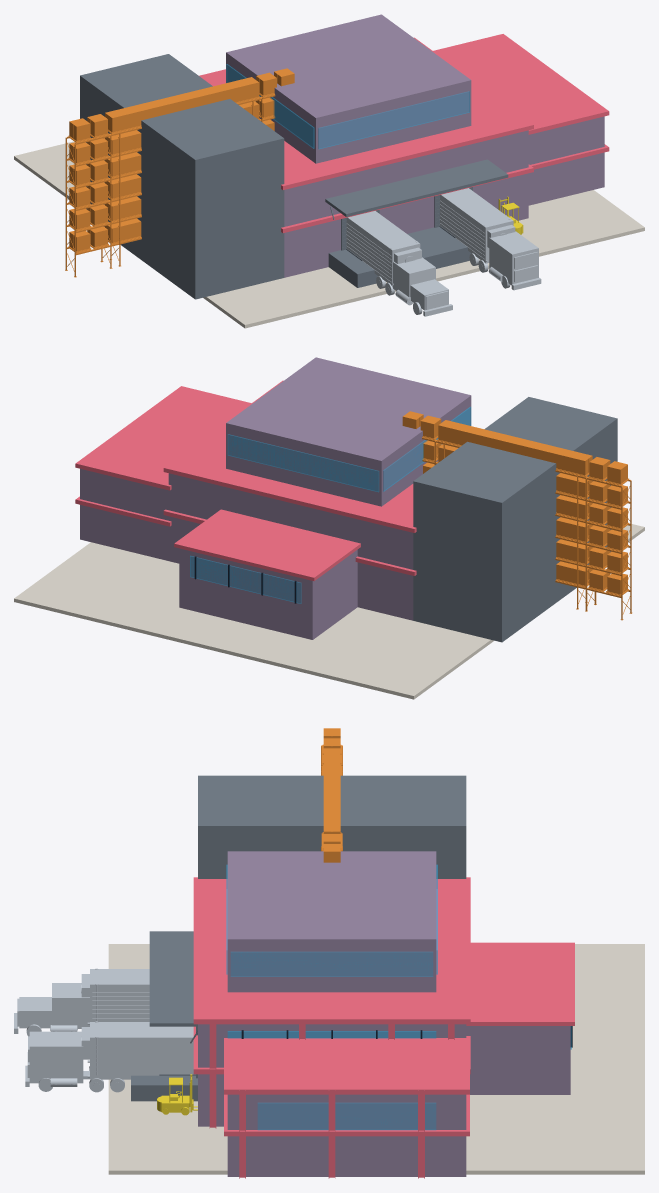
The model's file is hq_11_procurement_l4.glb.
3 views of the same model, one above another, from view 1: azimuth 30°, elevation 25°; view 2: azimuth 150°, elevation 25°; view 3: azimuth 270°, elevation 25° (orthographic). The views are drawn at different scales.
Parts seen in each view (by area): view 1: GEO_Procurement_HighBay_Shell, GEO_Procurement_Collaboration_Floor, GEO_Procurement_Automated_Pallet_Racks, GEO_Procurement_Foundation_Plinth, GEO_Procurement_Delivery_SemiTruck, GEO_Procurement_Brick_Warehouse, GEO_Procurement_Inspection_Beams, GEO_Procurement_Structural_Columns, GEO_Procurement_Freight_Docks, GEO_Procurement_Inspection_Wing_Brick, GEO_Procurement_Collab_Windows; view 2: GEO_Procurement_HighBay_Shell, GEO_Procurement_Foundation_Plinth, GEO_Procurement_Collaboration_Floor, GEO_Procurement_Brick_Warehouse, GEO_Procurement_Structural_Columns, GEO_Procurement_Automated_Pallet_Racks, GEO_Procurement_Inspection_Beams, GEO_Procurement_Inspection_Wing_Brick, GEO_Procurement_Collab_Windows, GEO_Procurement_Ribbon_Glass; view 3: GEO_Procurement_Foundation_Plinth, GEO_Procurement_Collaboration_Floor, GEO_Procurement_Structural_Columns, GEO_Procurement_HighBay_Shell, GEO_Procurement_Inspection_Beams, GEO_Procurement_Inspection_Wing_Brick, GEO_Procurement_Delivery_SemiTruck, GEO_Procurement_Brick_Warehouse, GEO_Procurement_Freight_Docks, GEO_Procurement_Collab_Windows, GEO_Procurement_Inspection_Ribbon_Glass, GEO_Procurement_Automated_Pallet_Racks (+2 smaller).
Boxes of the visible parts, bbox=[...] form: GEO_Procurement_HighBay_Shell: bbox=[80, 54, 284, 299]; GEO_Procurement_Collaboration_Floor: bbox=[226, 14, 471, 163]; GEO_Procurement_Automated_Pallet_Racks: bbox=[65, 68, 294, 277]; GEO_Procurement_Foundation_Plinth: bbox=[14, 141, 644, 328]; GEO_Procurement_Delivery_SemiTruck: bbox=[346, 188, 541, 316]; GEO_Procurement_Brick_Warehouse: bbox=[284, 130, 528, 277]; GEO_Procurement_Inspection_Beams: bbox=[433, 34, 609, 169]; GEO_Procurement_Structural_Columns: bbox=[199, 37, 533, 233]; GEO_Procurement_Freight_Docks: bbox=[325, 159, 508, 287]; GEO_Procurement_Inspection_Wing_Brick: bbox=[528, 116, 604, 205]; GEO_Procurement_Collab_Windows: bbox=[226, 64, 469, 149]; GEO_Procurement_HighBay_Shell: bbox=[413, 397, 617, 642]; GEO_Procurement_Foundation_Plinth: bbox=[14, 523, 644, 699]; GEO_Procurement_Collaboration_Floor: bbox=[226, 357, 471, 506]; GEO_Procurement_Brick_Warehouse: bbox=[168, 473, 413, 639]; GEO_Procurement_Structural_Columns: bbox=[163, 380, 416, 580]; GEO_Procurement_Automated_Pallet_Racks: bbox=[402, 411, 632, 620]; GEO_Procurement_Inspection_Beams: bbox=[75, 386, 251, 526]; GEO_Procurement_Inspection_Wing_Brick: bbox=[80, 468, 168, 560]; GEO_Procurement_Collab_Windows: bbox=[227, 407, 471, 492]; GEO_Procurement_Ribbon_Glass: bbox=[190, 556, 301, 603]; GEO_Procurement_Foundation_Plinth: bbox=[108, 944, 644, 1174]; GEO_Procurement_Collaboration_Floor: bbox=[227, 851, 436, 992]; GEO_Procurement_Structural_Columns: bbox=[193, 877, 574, 1128]; GEO_Procurement_HighBay_Shell: bbox=[198, 775, 466, 878]; GEO_Procurement_Inspection_Beams: bbox=[224, 1036, 469, 1178]; GEO_Procurement_Inspection_Wing_Brick: bbox=[227, 1094, 466, 1176]; GEO_Procurement_Delivery_SemiTruck: bbox=[14, 968, 193, 1092]; GEO_Procurement_Brick_Warehouse: bbox=[198, 1024, 570, 1126]; GEO_Procurement_Freight_Docks: bbox=[131, 931, 197, 1101]; GEO_Procurement_Collab_Windows: bbox=[226, 864, 437, 976]; GEO_Procurement_Inspection_Ribbon_Glass: bbox=[257, 1103, 436, 1130]; GEO_Procurement_Automated_Pallet_Racks: bbox=[321, 728, 342, 862].
Size of what is drawn, in the model's own units: 44.36 by 13.11 by 42.35.
